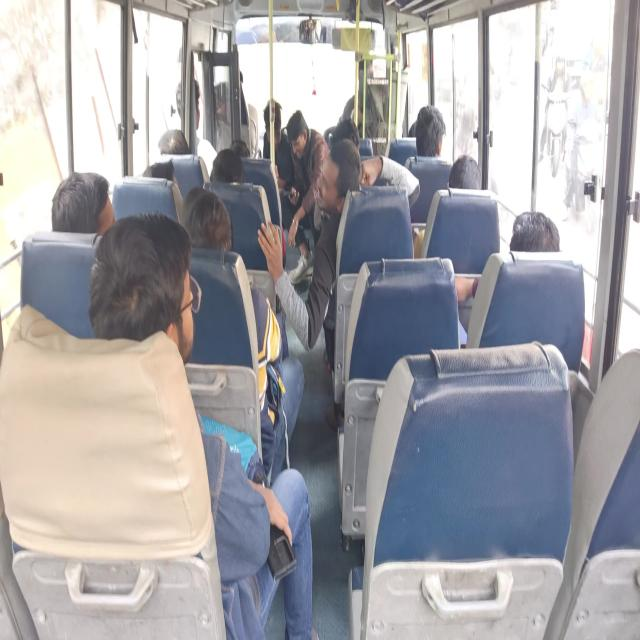person: (73, 213, 208, 378), (40, 113, 111, 213), (492, 207, 574, 278), (189, 164, 239, 270), (322, 145, 374, 229), (438, 147, 507, 187), (409, 99, 450, 161), (142, 143, 184, 199), (210, 142, 255, 192), (173, 72, 208, 133), (251, 90, 290, 144), (156, 107, 191, 158), (289, 107, 308, 165), (264, 86, 282, 141)
